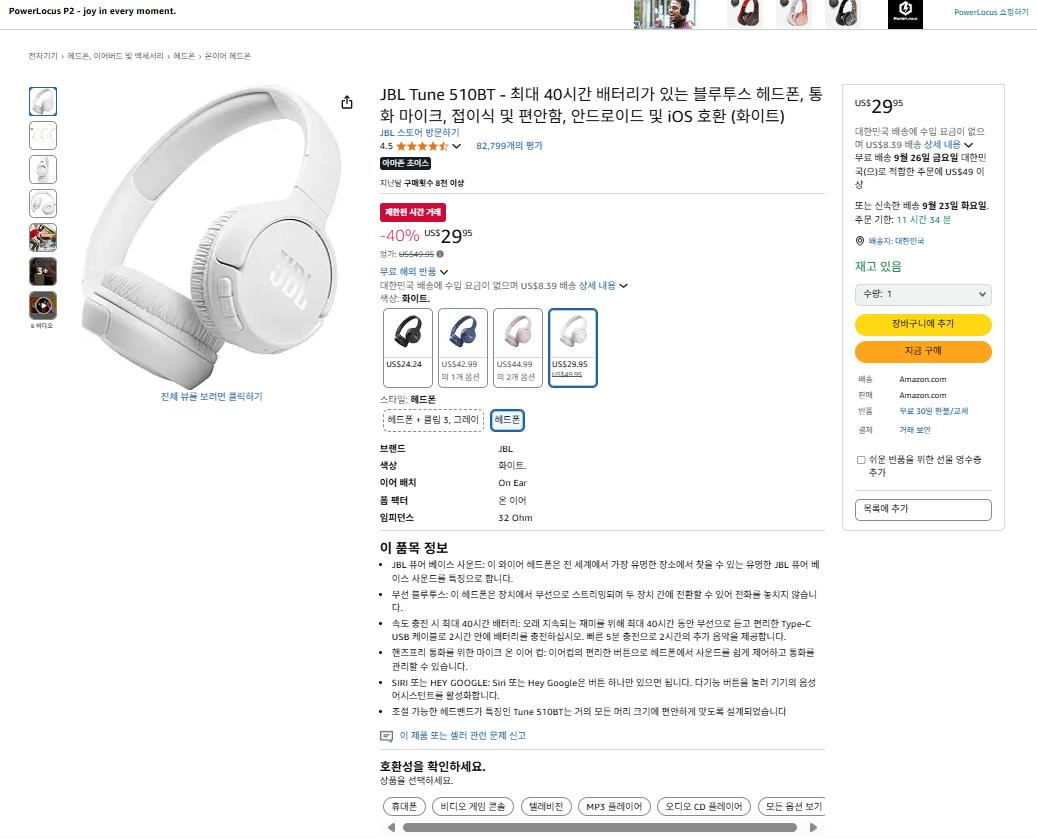button: (0, 0, 1037, 31), (382, 306, 433, 388), (493, 308, 543, 388), (440, 307, 486, 384), (856, 311, 992, 336), (854, 340, 993, 364), (660, 796, 749, 816), (159, 390, 268, 403), (578, 798, 652, 817), (758, 796, 827, 816), (431, 798, 512, 814), (386, 797, 427, 816), (526, 798, 569, 816)
checkbox: (857, 284, 991, 308)
popup: (549, 308, 598, 386)
